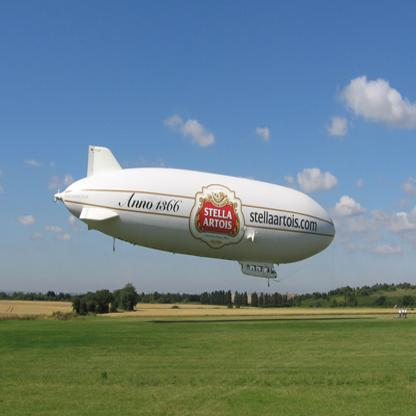Airship: (57, 143, 339, 284)
